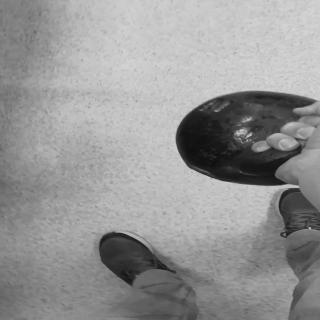kettlebell: (177, 91, 320, 186)
